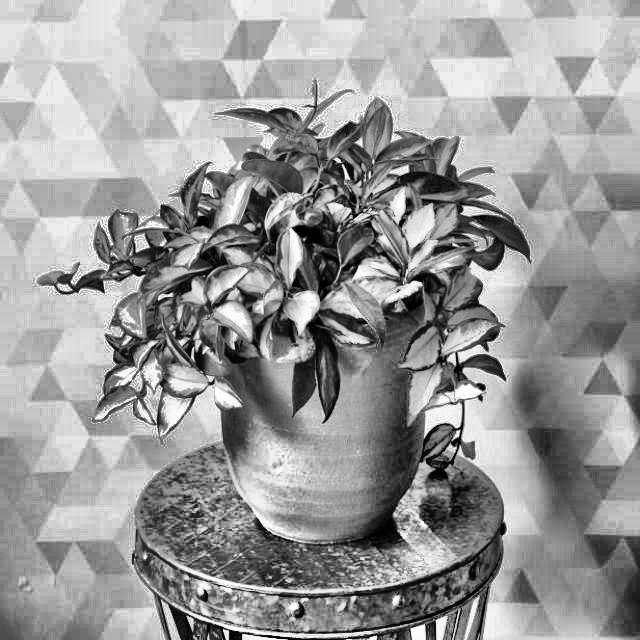plants: (116, 126, 498, 294)
